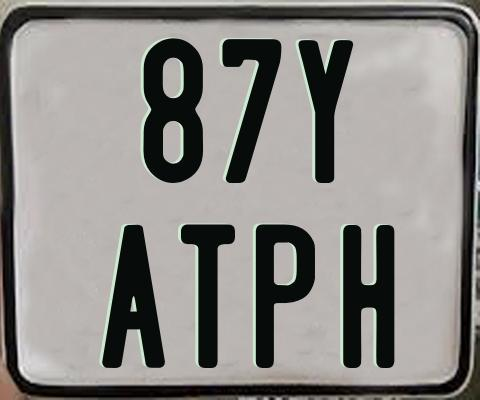7: (219, 36, 282, 185)
8: (142, 35, 208, 186)
A: (100, 222, 169, 369)
H: (340, 223, 394, 372)
P: (254, 222, 315, 370)
T: (180, 224, 234, 371)
Y: (297, 39, 358, 187)
